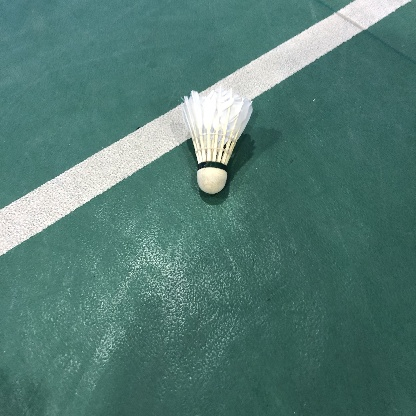ball_single: (182, 86, 253, 194)
